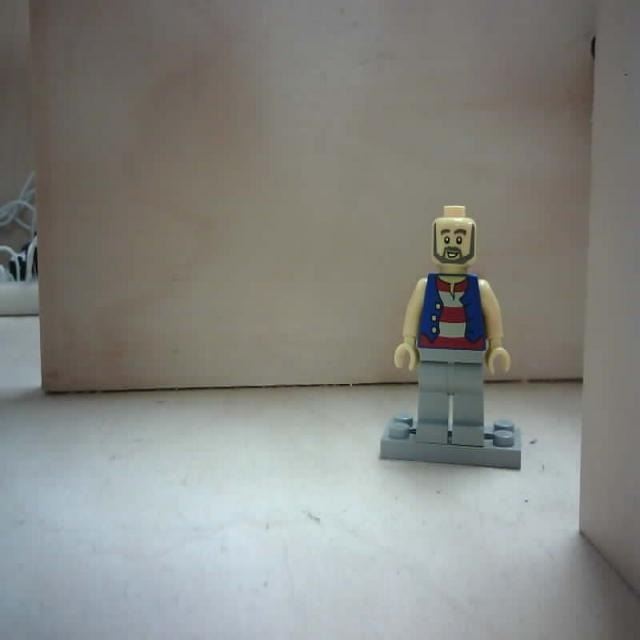Lego-People: (379, 207, 523, 480)
